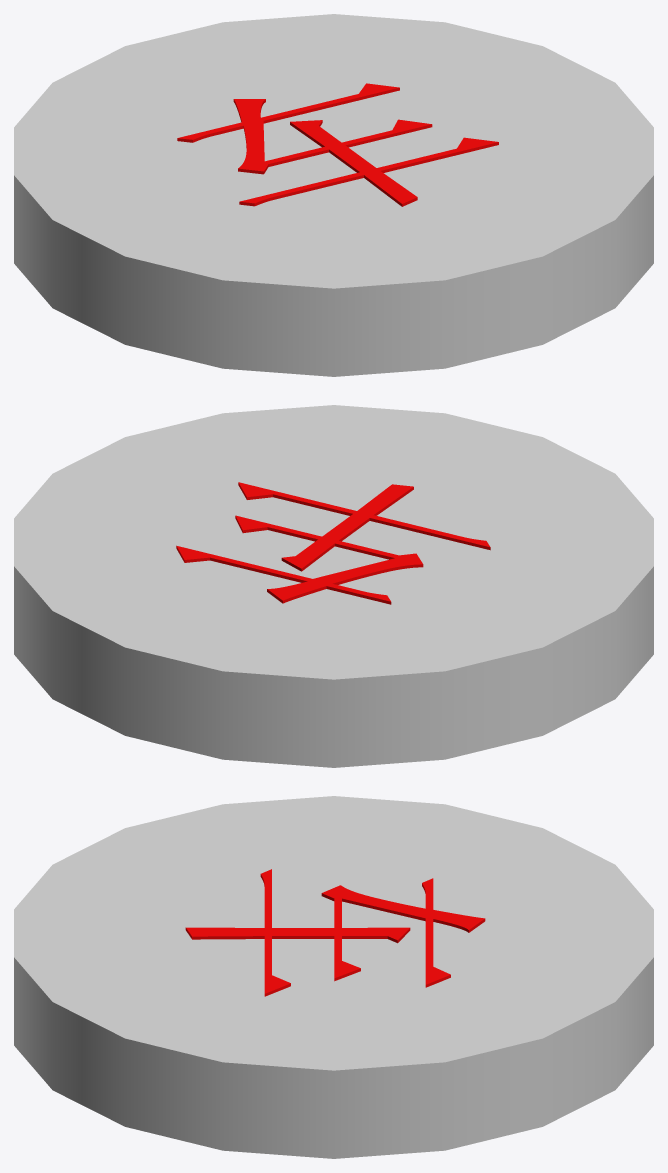
3 renders of one model, top to bottom at view 1: azimuth 30°, elevation 25°; view 2: azimuth 150°, elevation 25°; view 3: azimuth 270°, elevation 25°, orthographic.
Visible parts, largest first — view 1: Cylinder001, Text001; view 2: Cylinder001, Text001; view 3: Cylinder001, Text001.
Boxes of the visible parts, x1,y1,x2,y2 form: Cylinder001: (14,14,653,376); Text001: (177,83,498,206); Cylinder001: (14,405,653,767); Text001: (176,482,490,604); Cylinder001: (14,796,653,1158); Text001: (185,869,485,996).
Size of the model in its own units: 20 by 19.7 by 3.1.
